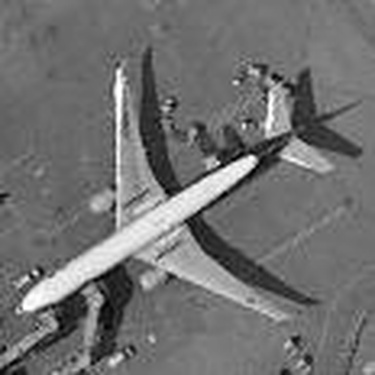airplane: (5, 44, 347, 358)
